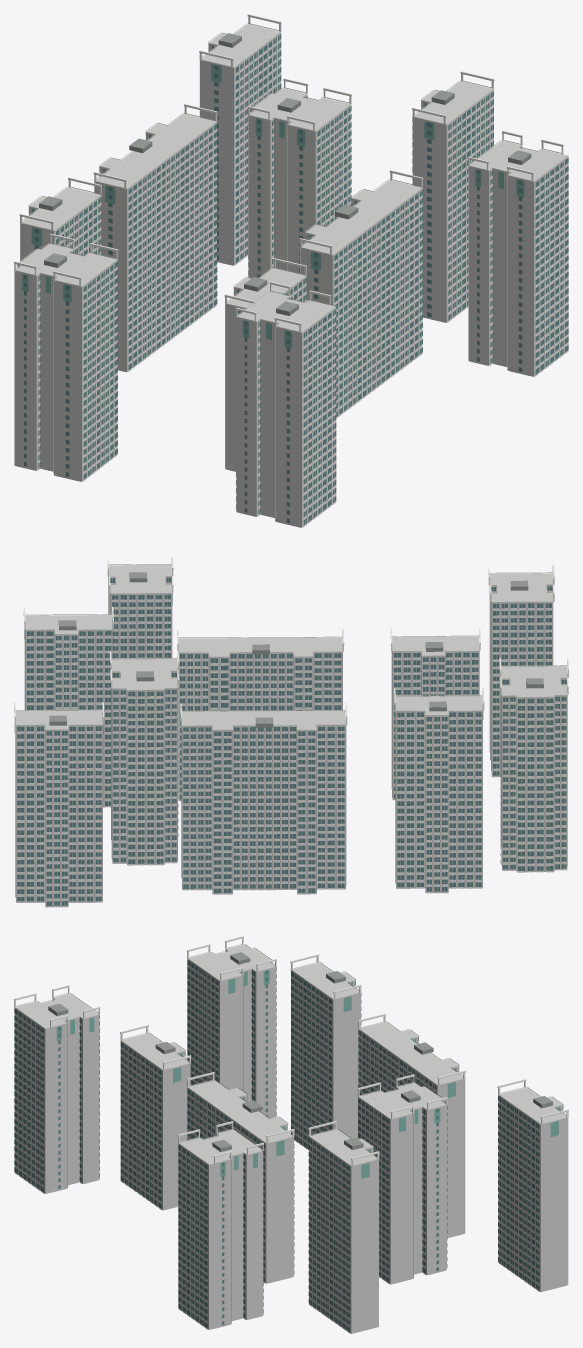
Rendered from representative-a13550502.glb.
3 renders of one model, top to bottom at view 1: azimuth 30°, elevation 25°; view 2: azimuth 150°, elevation 25°; view 3: azimuth 270°, elevation 25°, orthographic. The views are drawn at different scales.
Parts seen in each view (by area): view 1: A13550502_wall001, A13550502_trim001, A13550502_glass001, A13550502_roof001, A13550502_accent001; view 2: A13550502_trim001, A13550502_glass001, A13550502_wall001, A13550502_roof001; view 3: A13550502_wall001, A13550502_trim001, A13550502_glass001, A13550502_accent001, A13550502_roof001.
Part boxes in pixels (x1,y1,x2,y2): A13550502_wall001: (14, 24, 568, 527); A13550502_trim001: (14, 14, 568, 527); A13550502_glass001: (17, 34, 568, 524); A13550502_roof001: (39, 33, 531, 315); A13550502_accent001: (22, 45, 524, 348); A13550502_trim001: (14, 556, 568, 907); A13550502_glass001: (17, 577, 566, 905); A13550502_wall001: (15, 565, 567, 907); A13550502_roof001: (49, 572, 543, 727); A13550502_wall001: (15, 944, 568, 1333); A13550502_trim001: (14, 936, 568, 1333); A13550502_glass001: (14, 950, 563, 1331); A13550502_accent001: (56, 970, 560, 1178); A13550502_roof001: (48, 952, 552, 1151).
Size of the model in its own units: 193 by 70.15 by 201.
